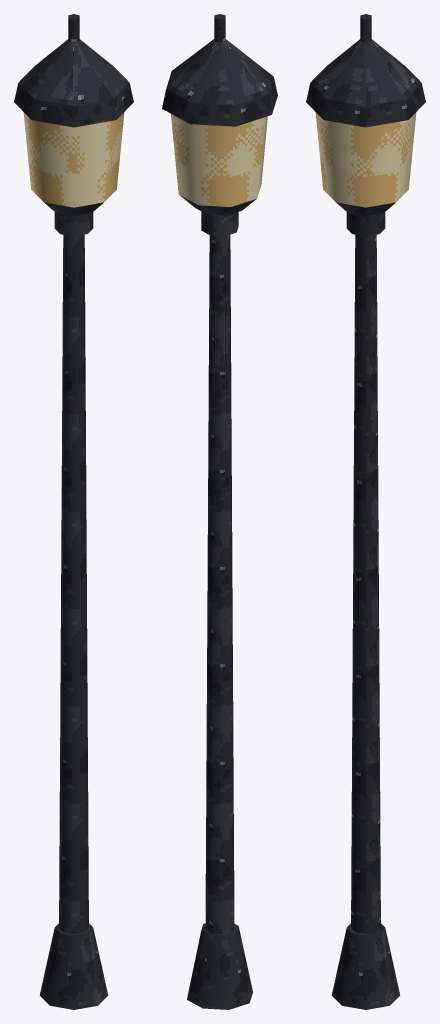
Rendered from SP_Lamp_Residential.obj.
The picture shows the model from 3 angles, left to right: view 1: azimuth 90°, elevation 25°; view 2: azimuth 150°, elevation 25°; view 3: azimuth 270°, elevation 25°; orthographic projection.
Parts seen in each view (by area): view 1: SP_Lamp_Residential_Mesh_M_Town_PaintBlack, SP_Lamp_Residential_Mesh_M_Town_LampGlow; view 2: SP_Lamp_Residential_Mesh_M_Town_PaintBlack, SP_Lamp_Residential_Mesh_M_Town_LampGlow; view 3: SP_Lamp_Residential_Mesh_M_Town_PaintBlack, SP_Lamp_Residential_Mesh_M_Town_LampGlow.
Part boxes in pixels (box(x1,y1,x2,y2)): SP_Lamp_Residential_Mesh_M_Town_PaintBlack: box(14, 14, 133, 1009); SP_Lamp_Residential_Mesh_M_Town_LampGlow: box(23, 112, 124, 207); SP_Lamp_Residential_Mesh_M_Town_PaintBlack: box(162, 14, 277, 1009); SP_Lamp_Residential_Mesh_M_Town_LampGlow: box(171, 114, 267, 206); SP_Lamp_Residential_Mesh_M_Town_PaintBlack: box(306, 14, 425, 1009); SP_Lamp_Residential_Mesh_M_Town_LampGlow: box(315, 112, 416, 207).
Size of the model in its own units: 0.56 by 5.04 by 0.56.
2 materials, 2 textured.
